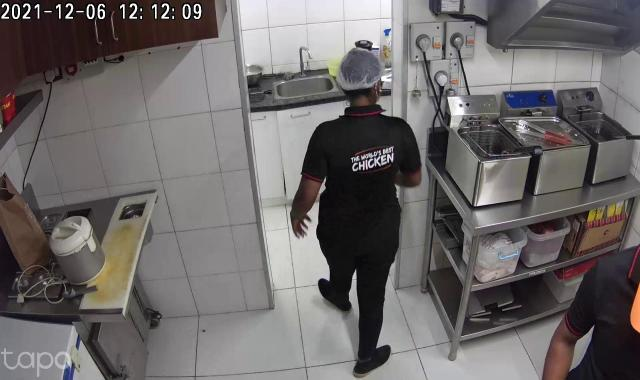hairnet: (331, 44, 385, 92)
